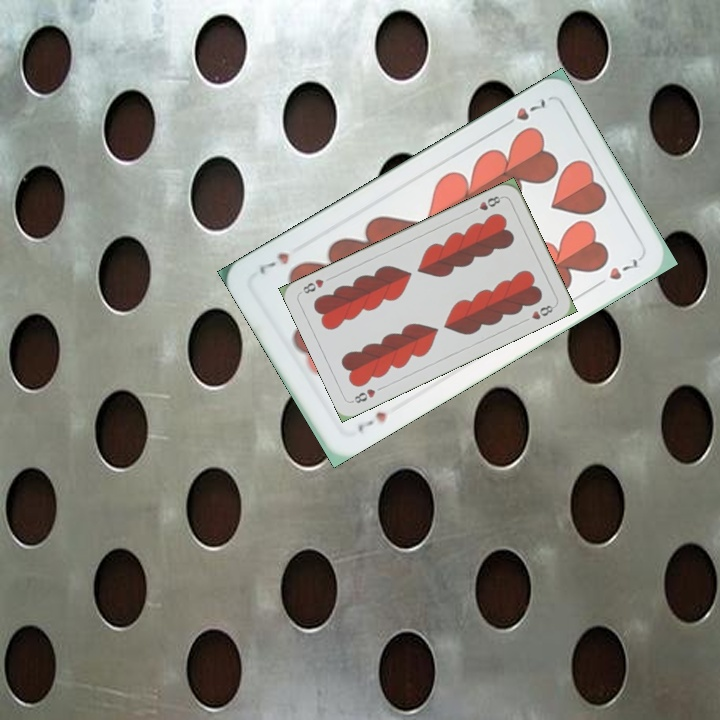H7: (497, 93, 549, 131), (353, 407, 389, 434)
H8: (348, 382, 387, 406), (467, 192, 505, 215)
